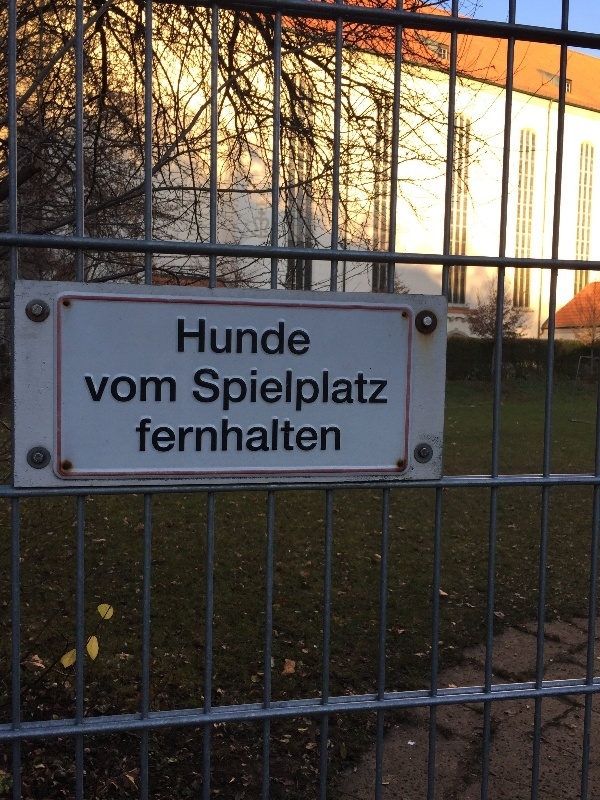text: (193, 367, 208, 414), (209, 367, 224, 414), (225, 367, 240, 414), (241, 367, 256, 414), (257, 367, 272, 414), (273, 367, 288, 414), (289, 367, 304, 414), (305, 367, 320, 414), (321, 367, 336, 414), (337, 367, 352, 414), (353, 367, 368, 414), (369, 367, 384, 414), (193, 319, 208, 355), (209, 319, 224, 355), (225, 319, 240, 355), (241, 319, 256, 355), (257, 319, 272, 355), (273, 319, 288, 355), (289, 319, 304, 355), (145, 417, 160, 452), (161, 417, 176, 452), (177, 417, 192, 452), (193, 417, 208, 452), (209, 417, 224, 452), (225, 417, 240, 452), (241, 417, 256, 452), (257, 417, 272, 452), (273, 417, 288, 452), (289, 417, 304, 452), (305, 417, 320, 452), (321, 417, 336, 452), (178, 319, 192, 355), (97, 376, 112, 402), (113, 376, 128, 402), (129, 376, 144, 402), (145, 376, 160, 402), (161, 376, 176, 402), (85, 376, 96, 402), (137, 417, 144, 452), (305, 319, 310, 355), (385, 367, 388, 414), (337, 417, 341, 452)
